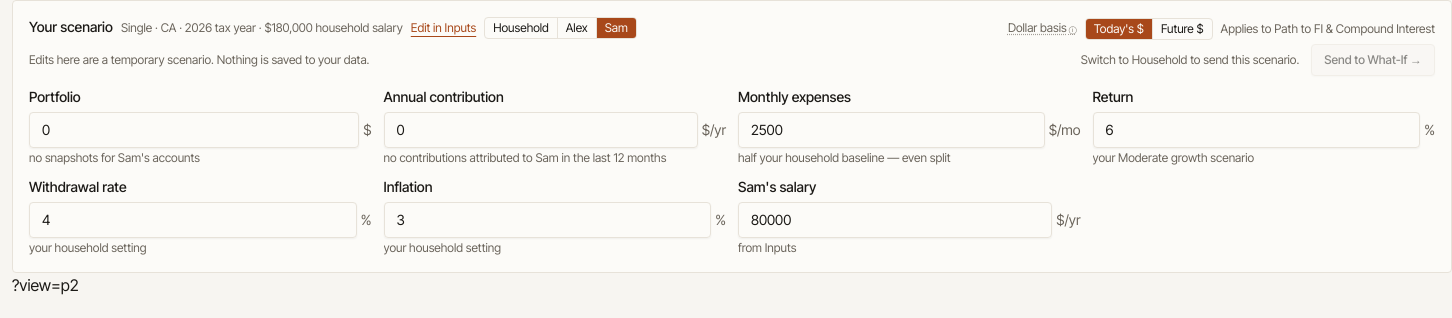
ScenarioBar — page-scope control + scoped bar (Wave B) › D-B6: Send-to-What-If is disabled in person scope with the CB6 reason
The image size is (1452, 318).
Even WITH an edit in the person silo the send stays disabled:
Step 1. Replace the text in the number field labelled "Portfolio" with "50000" → (194, 130), box x1=29 y1=112 x2=359 y2=148
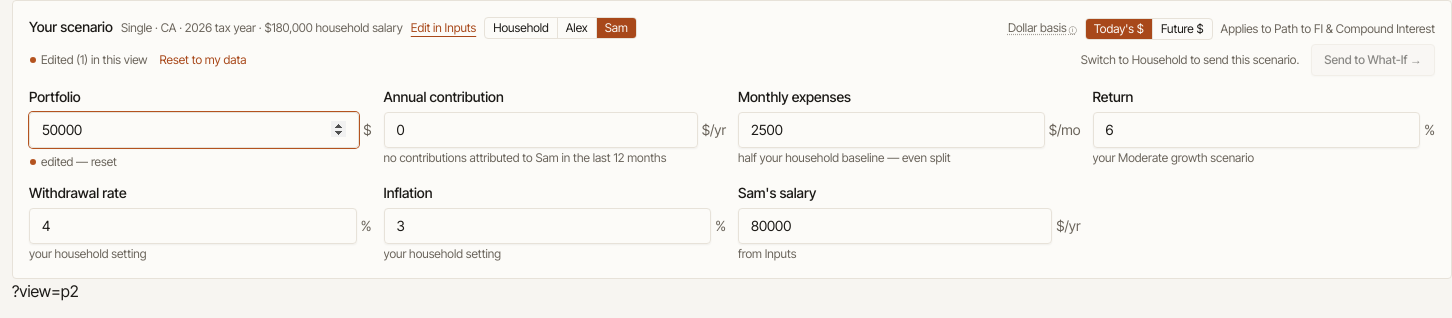
Expected: the button "Send to What-If →" is disabled, x1=1311 y1=44 x2=1435 y2=76
Expected: the element with test id "scenario-edited-count" shows "Edited (1)", x1=29 y1=52 x2=148 y2=68
